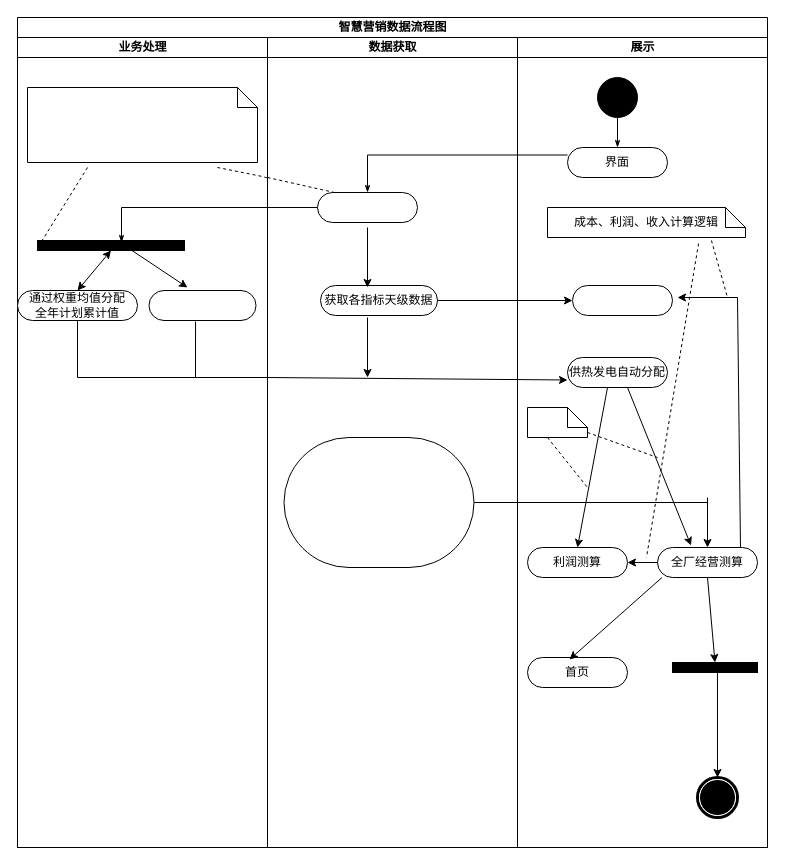
The diagram is 785 pixels wide and 865 high, and some of its shapes have lost their labels. The shapes that lost their labels are listed below. From the top down, each one's centre as x and y in pixels, then its label:
point (142, 124): 系统启动初始化获取近五年各个指标天级数据，将每个月累计值进行存储，用于计算权重
point (367, 207): 天级数据接口调用
point (202, 305): 获取实际月累计值
point (622, 300): 经营指标查看
point (557, 422): 权重 均值
point (378, 502): 根据天级计划供热量、发电量取近五年近似值并获取其他相关指标数据(区分供暖费供暖期)
